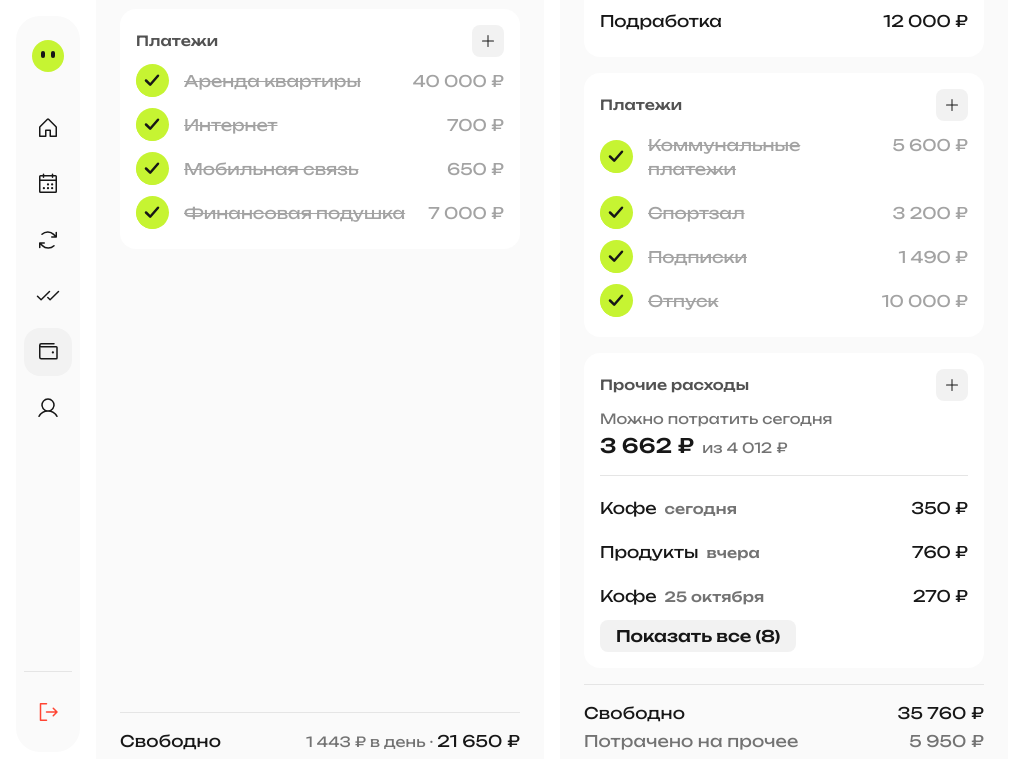
Test: трекер на демо-данных › Финансы: трата записывается и появляется в списке
The image size is (1024, 759).
(page scrolled)
Step 1. Click the button named "Записать трату" → [952, 385], box [936,369,968,401]
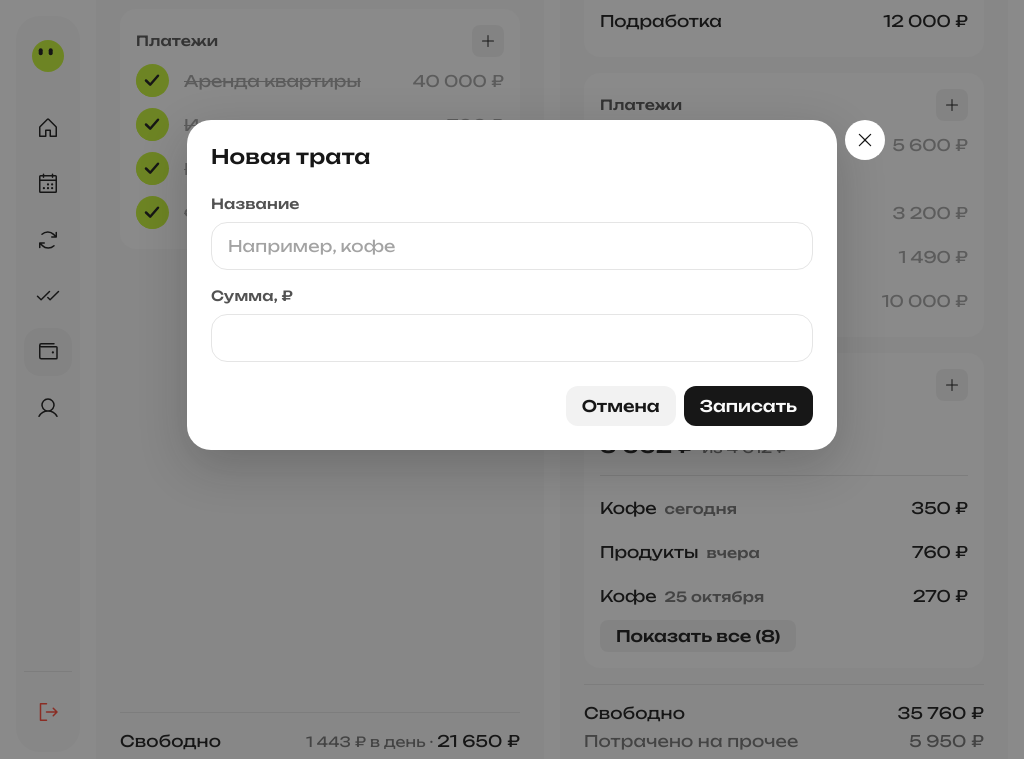
Step 2. Type "Цветы" into the field labelled "Название" → [512, 246], box [211,222,813,270]
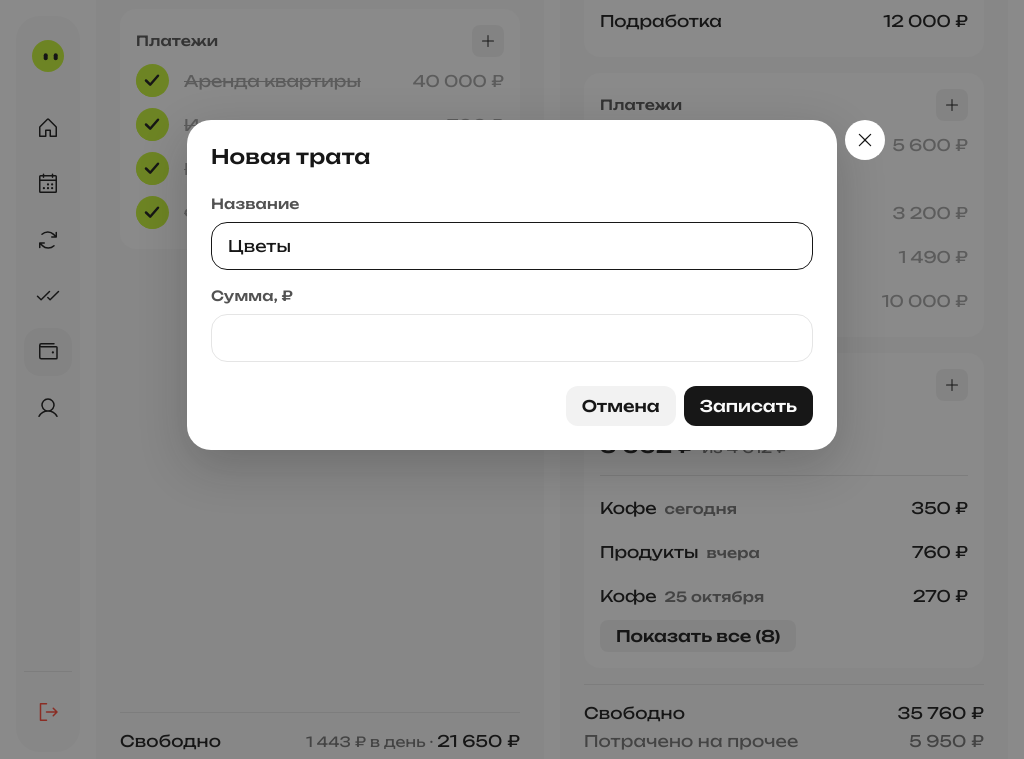
Step 3. Type "777" into the field labelled "Сумма, ₽" → [512, 338], box [211,314,813,362]
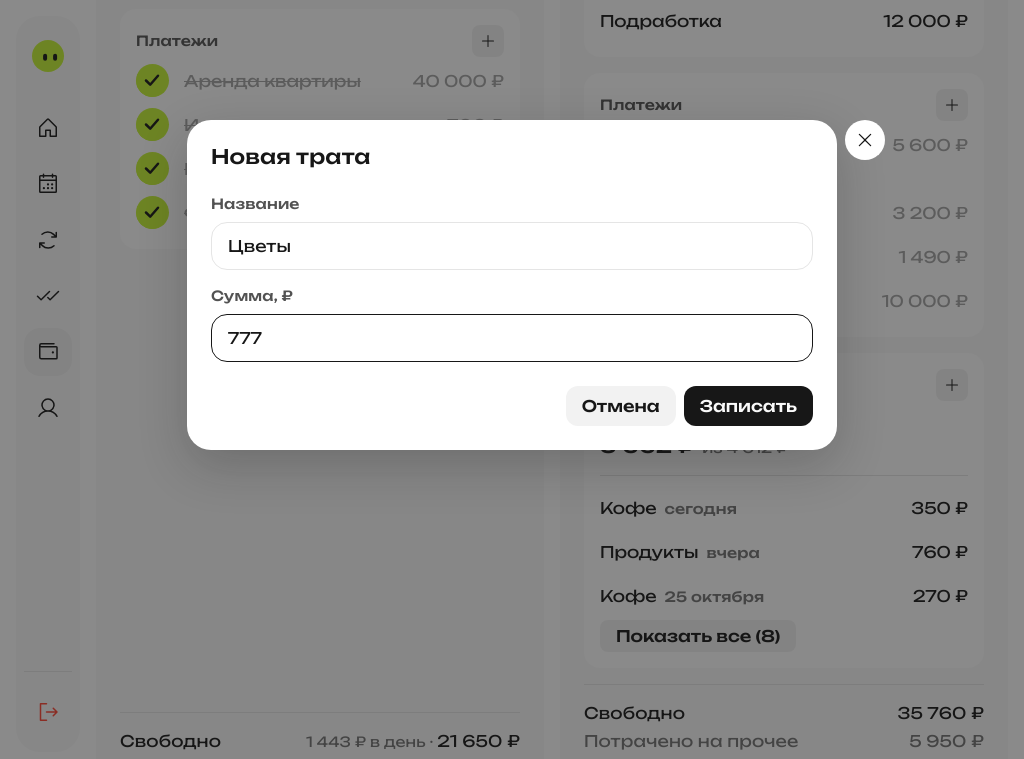
Step 4. Click the button "Записать" → [748, 406], box [684,386,813,426]
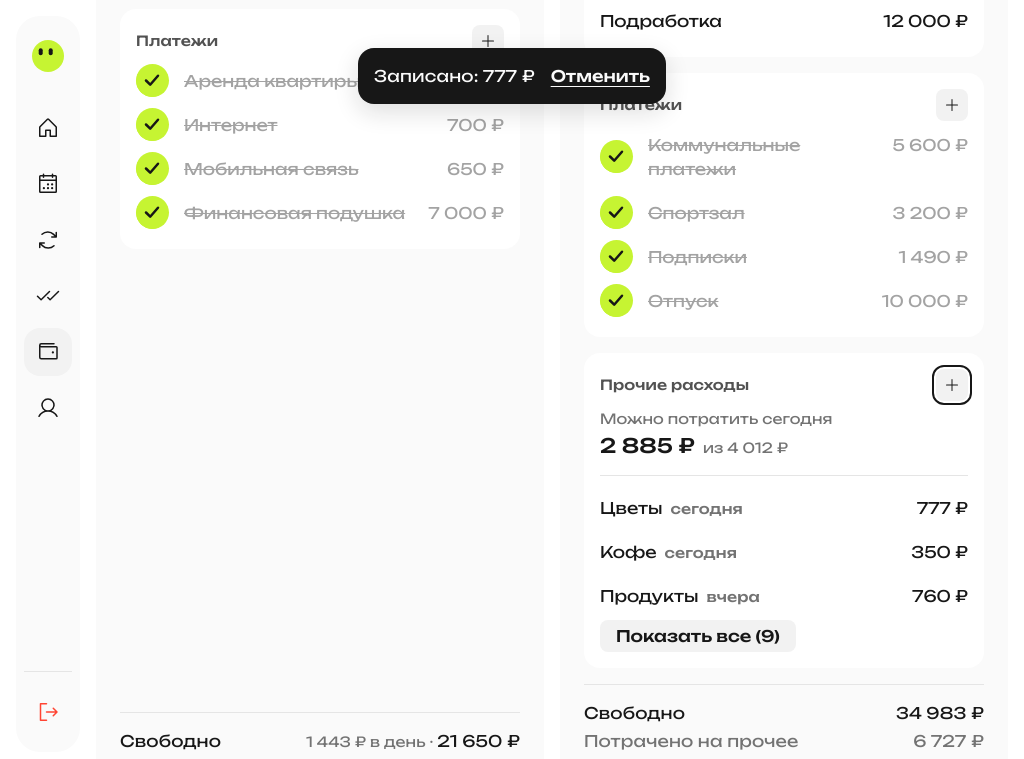
Now the text "Записано: 777 ₽" is shown, box [374,64,535,88]
Нажатие на трату открывает её правку с удалением.
Step 5. Click the button with aria-label "Изменить трату: Цветы, 777" → [631, 508], box [592,488,976,528]
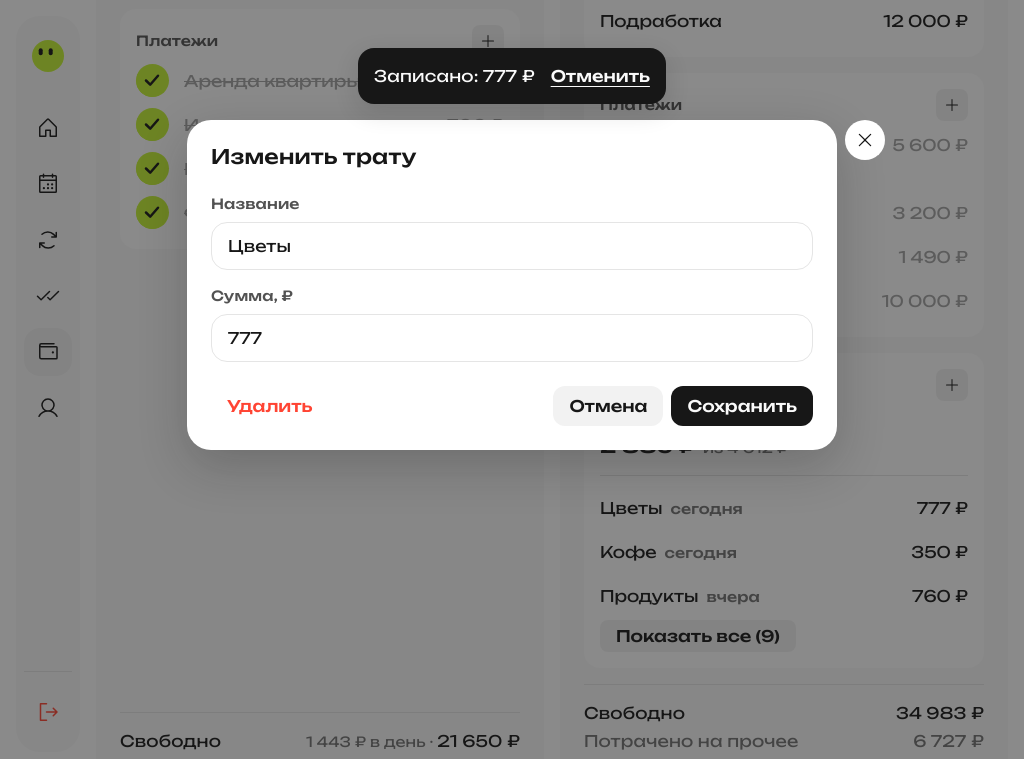
Now the heading "Изменить трату" is shown, box [211,144,416,169]
Now the button "Удалить" is shown, box [211,386,328,426]
